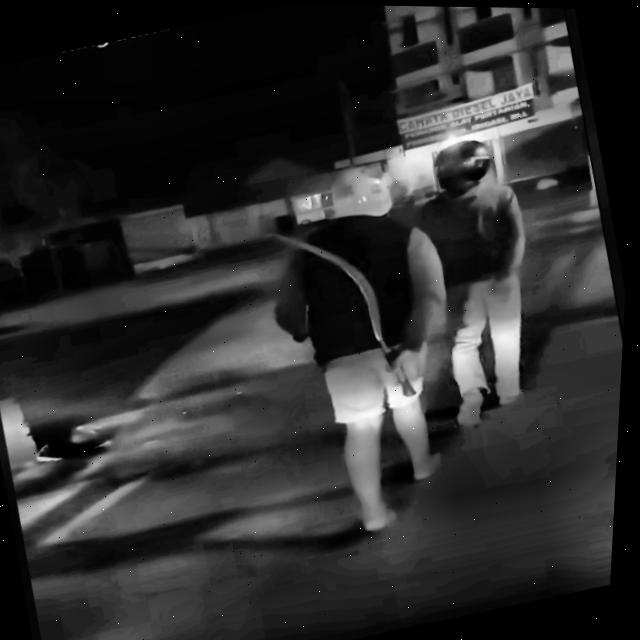celurit: (243, 201, 431, 439)
